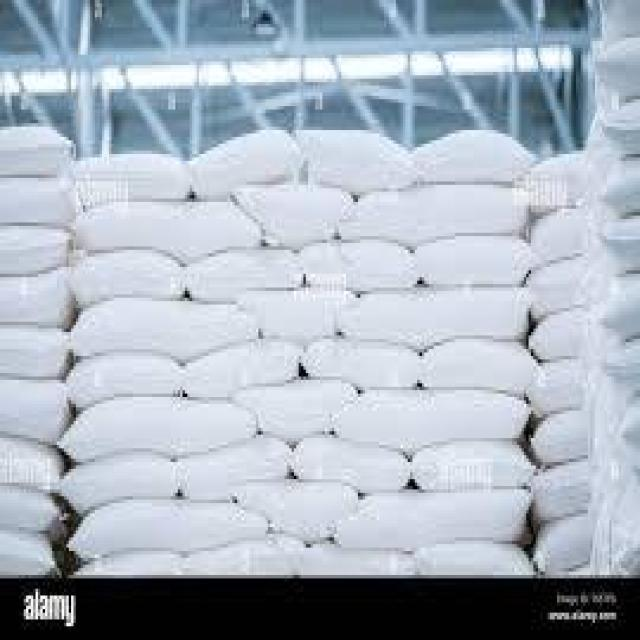gunny_bag: (328, 385, 533, 460), (55, 397, 262, 463), (335, 182, 534, 248), (64, 498, 273, 560), (73, 197, 265, 264), (342, 281, 529, 349), (68, 297, 261, 362), (333, 488, 531, 551), (304, 123, 420, 201), (229, 182, 359, 249), (233, 378, 365, 441), (192, 125, 305, 198), (176, 433, 296, 501), (57, 451, 178, 518), (70, 150, 194, 214), (293, 433, 416, 497), (181, 337, 303, 401), (408, 438, 541, 493), (68, 247, 186, 308), (239, 481, 359, 540), (416, 127, 538, 185), (420, 337, 542, 394), (64, 352, 184, 408), (415, 234, 539, 288), (185, 248, 307, 302), (300, 336, 423, 389), (302, 238, 422, 290), (239, 286, 348, 341), (184, 533, 304, 575), (411, 539, 538, 577), (524, 144, 585, 222), (0, 377, 71, 443), (525, 352, 589, 421), (530, 454, 593, 524), (296, 540, 420, 575), (0, 273, 77, 329), (1, 175, 78, 230), (530, 510, 592, 576), (526, 254, 585, 322), (0, 435, 65, 495), (0, 124, 72, 176), (1, 226, 75, 276), (1, 324, 72, 376), (529, 206, 587, 268), (73, 548, 195, 577), (529, 407, 589, 465), (0, 528, 63, 582), (527, 305, 584, 362), (0, 485, 66, 531)
